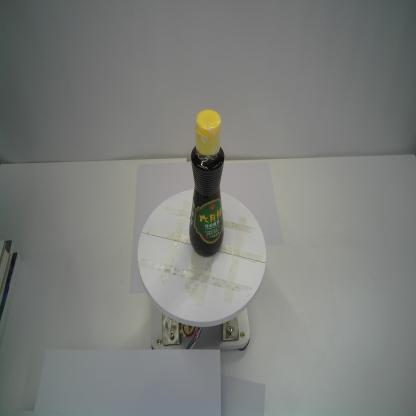Seasoner: (187, 107, 226, 259)
